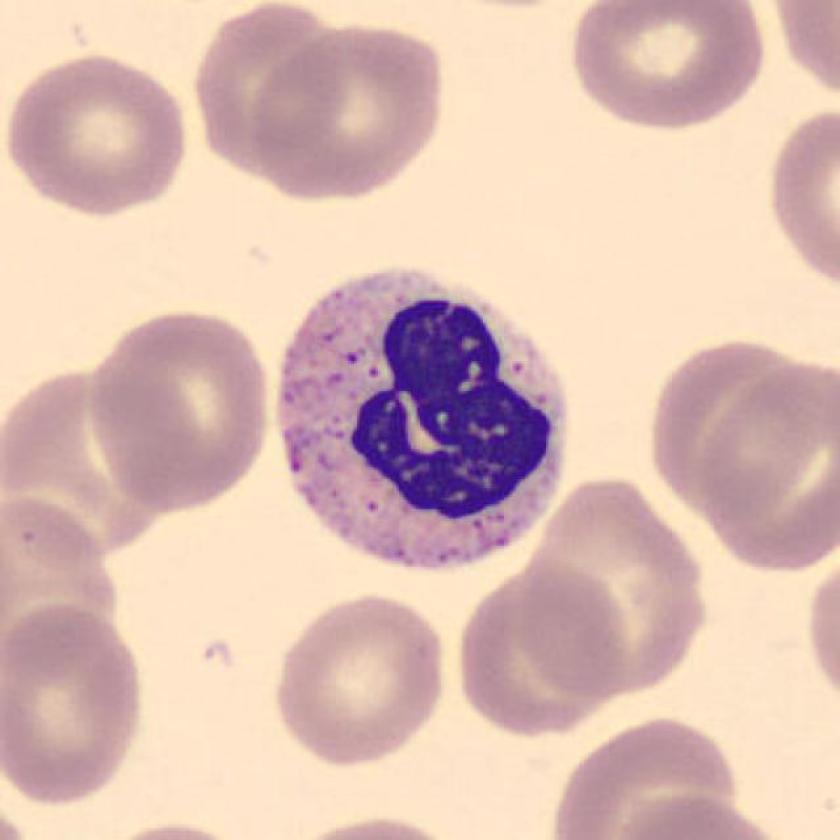neutrophil: (267, 264, 576, 574)
